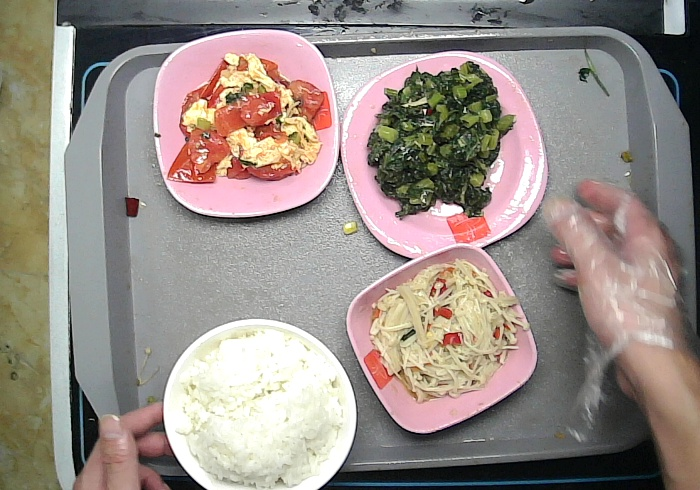SHKJ-Fan_Wan: (158, 312, 361, 490)
SHKJ-Fen_Se_Cai_Die: (150, 24, 343, 225)
SHKJ-Fen_Se_Si_Fang_Cai_Die: (333, 46, 554, 265)
SHKJ-Fen_Se_Xiao_Fang_Die: (340, 240, 543, 438)
